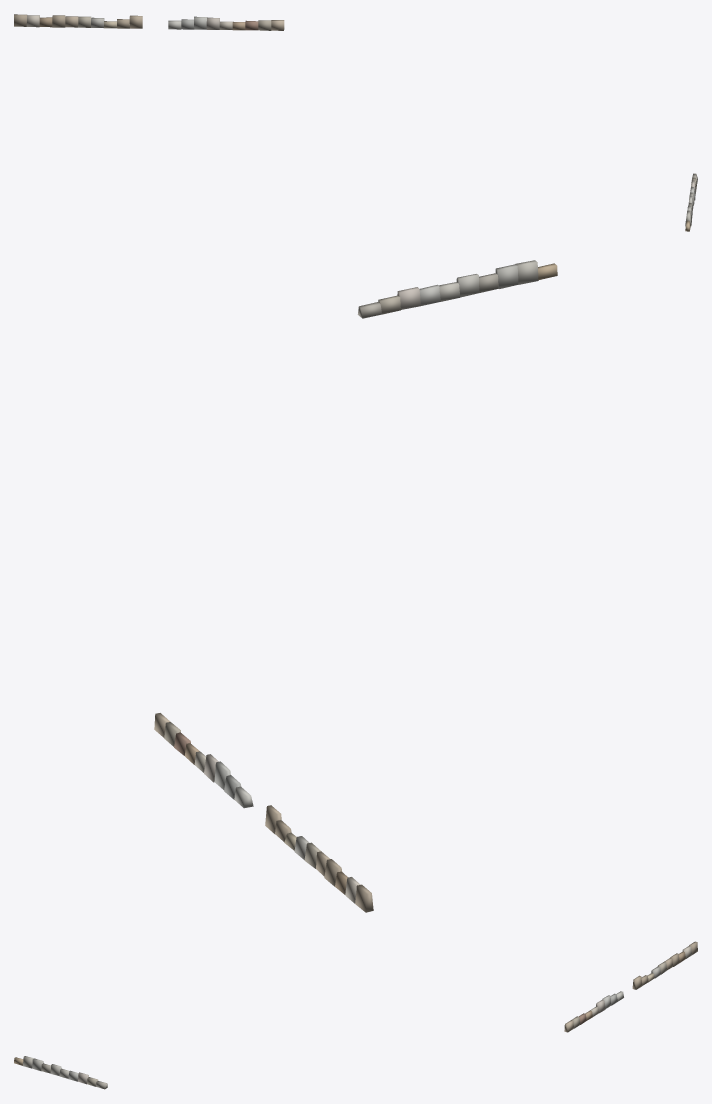
File: farm_6_6_far.glb
The picture shows the model from 3 angles, top to bottom: view 1: azimuth 30°, elevation 25°; view 2: azimuth 150°, elevation 25°; view 3: azimuth 270°, elevation 25°; orthographic projection. The views are drawn at different scales.
Parts seen in each view (by area): view 1: geometry_0; view 2: geometry_0; view 3: geometry_0.
Part boxes in pixels (bbox=[...]): geometry_0: bbox=[14, 14, 697, 231]; geometry_0: bbox=[154, 260, 557, 912]; geometry_0: bbox=[14, 941, 697, 1089].
Size of the model in its own units: 49.62 by 2.82 by 97.13.
